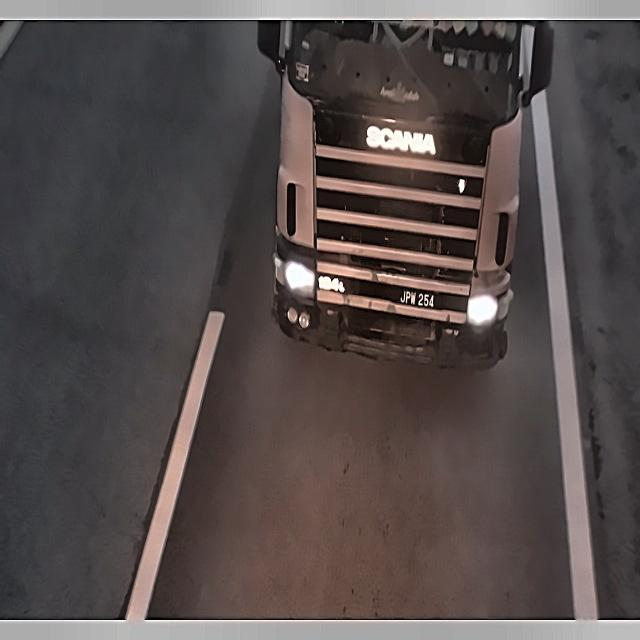car: (399, 282, 439, 315)
